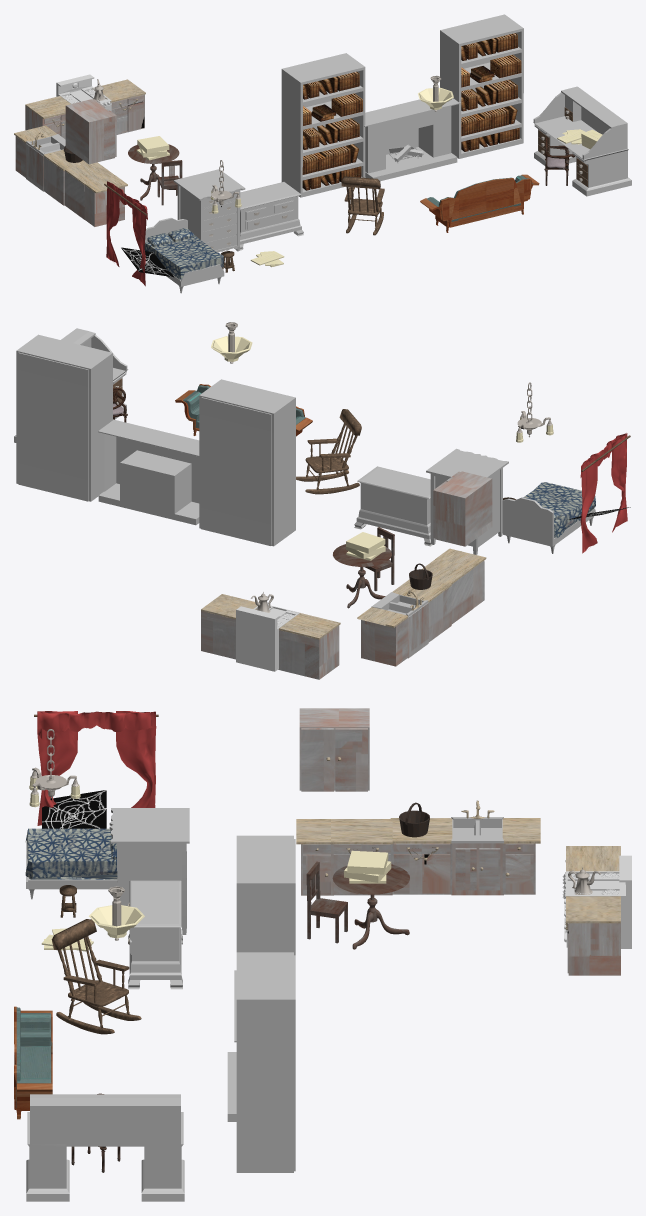
The model's file is props.fbx.
The picture shows the model from 3 angles, top to bottom: view 1: azimuth 30°, elevation 25°; view 2: azimuth 150°, elevation 25°; view 3: azimuth 270°, elevation 25°; orthographic projection. The views are drawn at different scales.
Parts seen in each view (by area): view 1: _gltfNode_90, _gltfNode_64, _gltfNode_4, _gltfNode_80, _gltfNode_152, _gltfNode_15, _gltfNode_149, _gltfNode_118, _gltfNode_165, _gltfNode_147, _gltfNode_24, _gltfNode_161 (+29 smaller); view 2: _gltfNode_90, _gltfNode_4, _gltfNode_80, _gltfNode_149, _gltfNode_118, _gltfNode_152, _gltfNode_97, _gltfNode_107, _gltfNode_161, _gltfNode_147, _gltfNode_24, _gltfNode_138 (+19 smaller); view 3: _gltfNode_4, _gltfNode_64, _gltfNode_90, _gltfNode_147, _gltfNode_152, _gltfNode_118, _gltfNode_149, _gltfNode_165, _gltfNode_24, _gltfNode_103, _gltfNode_125, _gltfNode_121 (+22 smaller).
Part boxes in pixels (x1,y1,x2,y2): _gltfNode_90: [281, 53, 365, 197]; _gltfNode_64: [533, 86, 631, 196]; _gltfNode_4: [440, 14, 523, 158]; _gltfNode_80: [365, 106, 457, 181]; _gltfNode_152: [173, 169, 245, 252]; _gltfNode_15: [420, 174, 539, 232]; _gltfNode_149: [234, 182, 303, 250]; _gltfNode_118: [65, 99, 116, 164]; _gltfNode_165: [144, 228, 223, 279]; _gltfNode_147: [106, 181, 147, 286]; _gltfNode_24: [341, 176, 384, 235]; _gltfNode_161: [145, 218, 224, 293]; _gltfNode_90: [199, 379, 295, 546]; _gltfNode_4: [16, 334, 112, 501]; _gltfNode_80: [98, 434, 199, 525]; _gltfNode_149: [354, 466, 432, 546]; _gltfNode_118: [433, 471, 492, 546]; _gltfNode_152: [426, 448, 508, 554]; _gltfNode_97: [236, 605, 299, 671]; _gltfNode_107: [278, 625, 339, 679]; _gltfNode_161: [502, 497, 595, 553]; _gltfNode_147: [580, 433, 627, 553]; _gltfNode_24: [296, 409, 361, 494]; _gltfNode_138: [361, 618, 408, 666]; _gltfNode_4: [236, 952, 295, 1172]; _gltfNode_64: [26, 1094, 184, 1201]; _gltfNode_90: [236, 835, 295, 955]; _gltfNode_147: [37, 711, 156, 825]; _gltfNode_152: [109, 808, 189, 934]; _gltfNode_118: [299, 708, 369, 791]; _gltfNode_149: [128, 880, 182, 989]; _gltfNode_165: [25, 828, 117, 878]; _gltfNode_24: [51, 919, 141, 1034]; _gltfNode_103: [567, 923, 620, 975]; _gltfNode_125: [392, 843, 452, 894]; _gltfNode_121: [451, 843, 503, 895].
Bounding box in the file's own units: 3693 × 930 × 2690.
